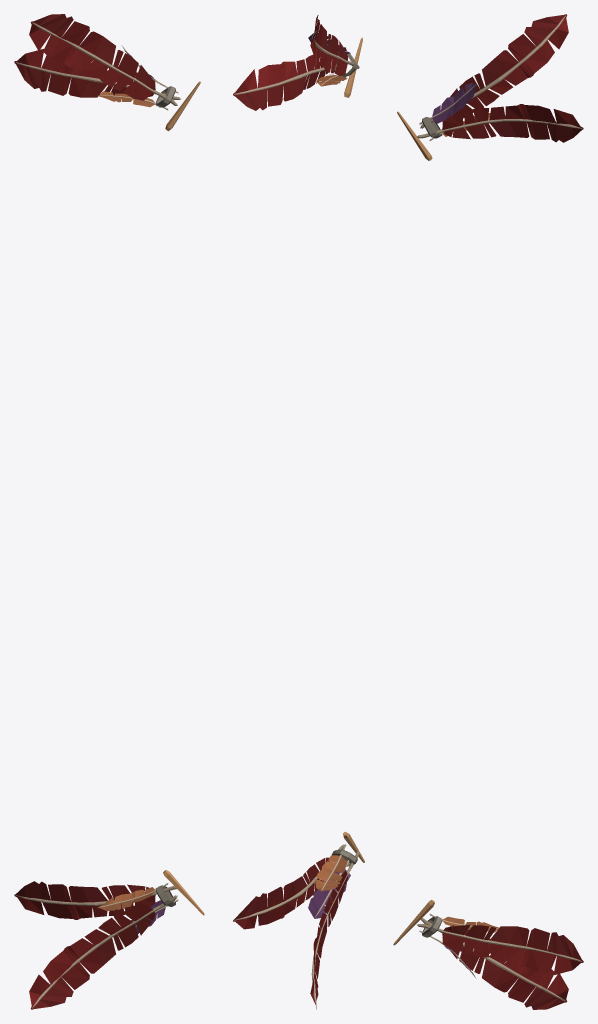
Rendered from mediumBowAztecTip.glb.
The picture shows the model from 3 angles, left to right: view 1: azimuth 90°, elevation 25°; view 2: azimuth 150°, elevation 25°; view 3: azimuth 270°, elevation 25°; orthographic projection.
Visible parts, largest first — view 1: mediumBowAztecTip; view 2: mediumBowAztecTip; view 3: mediumBowAztecTip.
Part boxes in pixels (x1,y1,x2,y2): mediumBowAztecTip: [14, 14, 204, 1009]; mediumBowAztecTip: [233, 15, 364, 1009]; mediumBowAztecTip: [393, 14, 583, 1009].
Bounding box in the file's own units: 0.129 × 1.61 × 0.2802.
